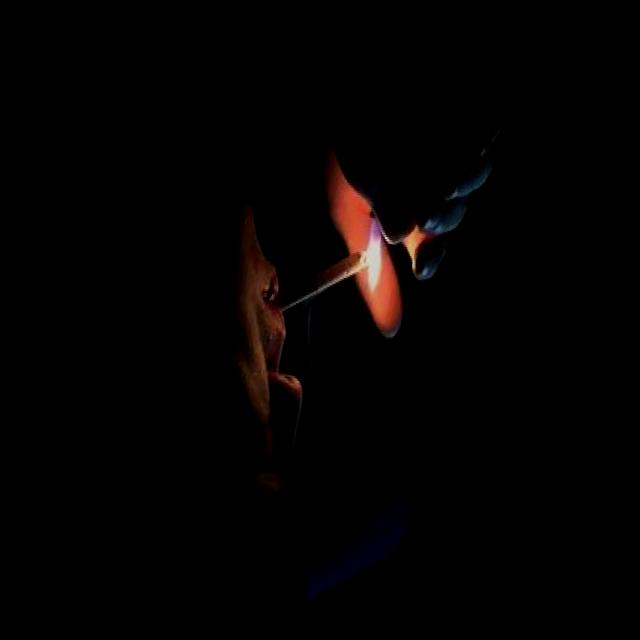cigarette: (268, 222, 374, 339)
